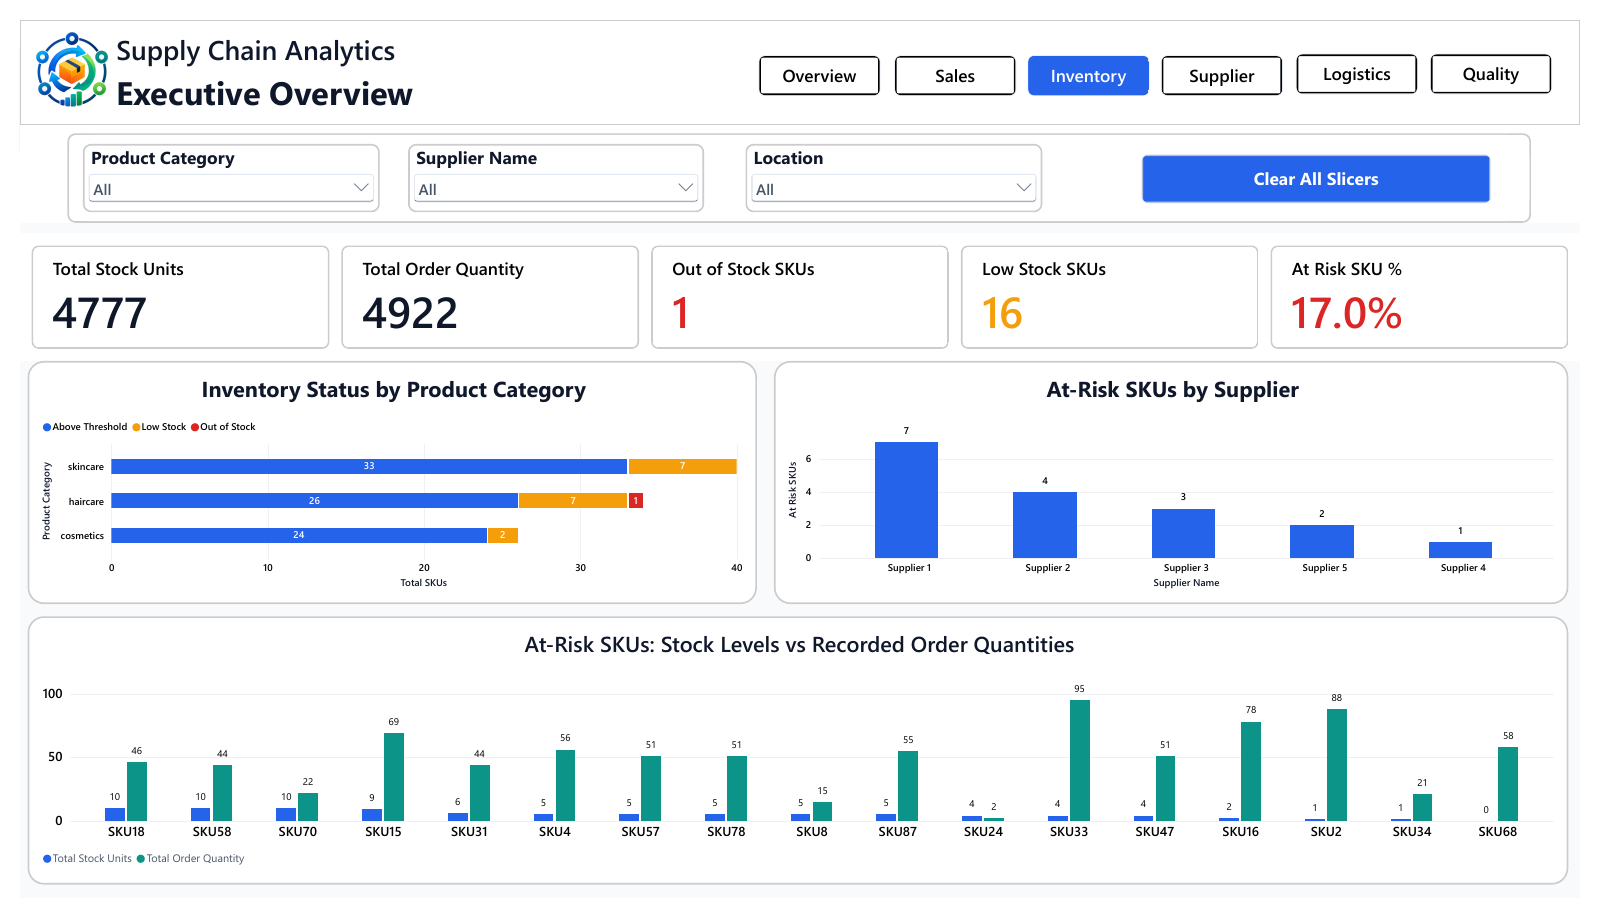

What the dashboard file says about the page in this screenshot:
{"tool":"powerbi","page":{"name":"Inventory Management","canvas":[1920,1080],"ordinal":2},"visuals":[{"type":"group","id":"g1","title":"Group 1","box":[0,0,1920.4,249.5],"z":0},{"type":"shape","box":[59.3,139.5,1800,110],"z":0,"group":"g1"},{"type":"shape","box":[0,0,1920.4,130],"z":1000,"group":"g1"},{"type":"cardVisual","fields":{"Data":["SupplyChain.Total Stock Units","SupplyChain.Total Order Quantity","SupplyChain.Out of Stock SKUs","SupplyChain.Low Stock SKUs","SupplyChain.At Risk SKU %"]},"box":[0,263.4,1920.4,157],"z":1000},{"type":"image","box":[10.7,7.3,107.7,110.8],"z":2000,"group":"g1"},{"type":"barChart","title":"Inventory Status by Product Category","fields":{"Category":["SupplyChain.Product Category"],"Series":["SupplyChain.Stock Status"],"Y":["SupplyChain.Total SKUs"]},"box":[10.5,420.4,896.5,298.3],"z":2000},{"type":"textbox","title":"Supply Chain Analytics","box":[118.7,14,350.6,48.8],"z":3000,"group":"g1"},{"type":"clusteredColumnChart","title":"At-Risk SKUs by Supplier","fields":{"Category":["SupplyChain.Supplier Name"],"Y":["SupplyChain.At Risk SKUs"]},"box":[927.9,420.4,976.7,298.3],"z":3000},{"type":"textbox","title":"Executive Overview","box":[118.7,62.7,371.5,54.1],"z":4000,"group":"g1"},{"type":"clusteredColumnChart","title":"At-Risk SKUs: Stock Levels vs Recorded Order Quantities","fields":{"Category":["SupplyChain.SKU"],"Y":["SupplyChain.Total Stock Units","SupplyChain.Total Order Quantity"]},"box":[10.5,734.3,1894.2,329.7],"z":4000},{"type":"actionButton","box":[1076.2,43.6,150,50],"z":5000,"group":"g1"},{"type":"actionButton","box":[1240.1,43.6,150,50],"z":6000,"group":"g1"},{"type":"actionButton","box":[1404.1,43.6,150,50],"z":7000,"group":"g1"},{"type":"actionButton","box":[908.7,43.6,150,50],"z":8000,"group":"g1"},{"type":"actionButton","box":[1569.8,41.9,150,50],"z":9000,"group":"g1"},{"type":"actionButton","box":[1735.5,41.9,150,50],"z":10000,"group":"g1"},{"type":"slicer","fields":{"Values":["SupplyChain.Product Category"]},"box":[78.5,153.5,364.5,83.7],"z":11000,"group":"g1"},{"type":"slicer","fields":{"Values":["SupplyChain.Supplier Name"]},"box":[477.9,153.5,364.5,83.7],"z":12000,"group":"g1"},{"type":"slicer","fields":{"Values":["SupplyChain.Location"]},"box":[893,153.5,364.5,83.7],"z":13000,"group":"g1"},{"type":"actionButton","box":[1379.7,165.7,430.8,60],"z":14000,"group":"g1"}]}

Visuals, with their boxes in screenshot pixels (x1, y1, x2, y2), scaled from the page's 1920x1080 canvas onto the 1600x918 screenshot:
"Group 1" group: (0, 0, 1599, 212)
shape: (49, 119, 1549, 212)
shape: (0, 0, 1599, 110)
cardVisual - SupplyChain.Total Stock Units x SupplyChain.Total Order Quantity: (0, 224, 1599, 357)
image: (9, 6, 99, 100)
"Inventory Status by Product Category" barChart: (9, 357, 756, 611)
"Supply Chain Analytics" textbox: (99, 12, 391, 53)
"At-Risk SKUs by Supplier" clusteredColumnChart: (773, 357, 1587, 611)
"Executive Overview" textbox: (99, 53, 408, 99)
"At-Risk SKUs: Stock Levels vs Recorded Order Quantities" clusteredColumnChart: (9, 624, 1587, 904)
actionButton: (897, 37, 1022, 80)
actionButton: (1033, 37, 1158, 80)
actionButton: (1170, 37, 1295, 80)
actionButton: (757, 37, 882, 80)
actionButton: (1308, 36, 1433, 78)
actionButton: (1446, 36, 1571, 78)
slicer - SupplyChain.Product Category: (65, 130, 369, 202)
slicer - SupplyChain.Supplier Name: (398, 130, 702, 202)
slicer - SupplyChain.Location: (744, 130, 1048, 202)
actionButton: (1150, 141, 1509, 192)
